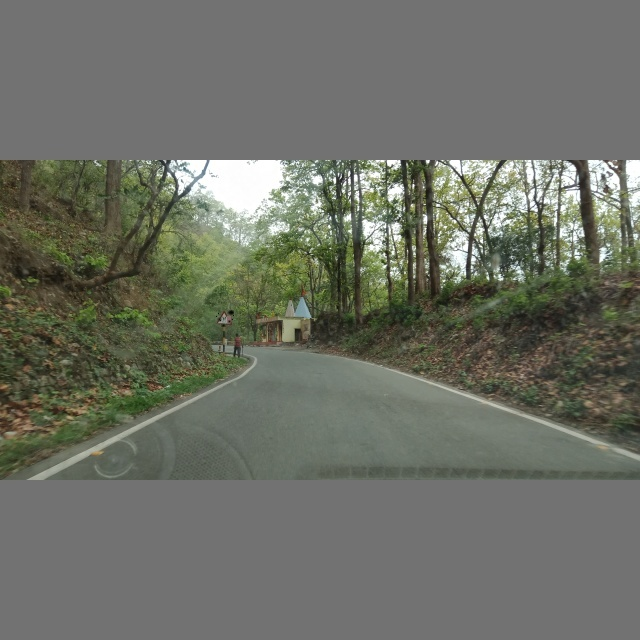Narrow_Bridge: (216, 305, 234, 327)
